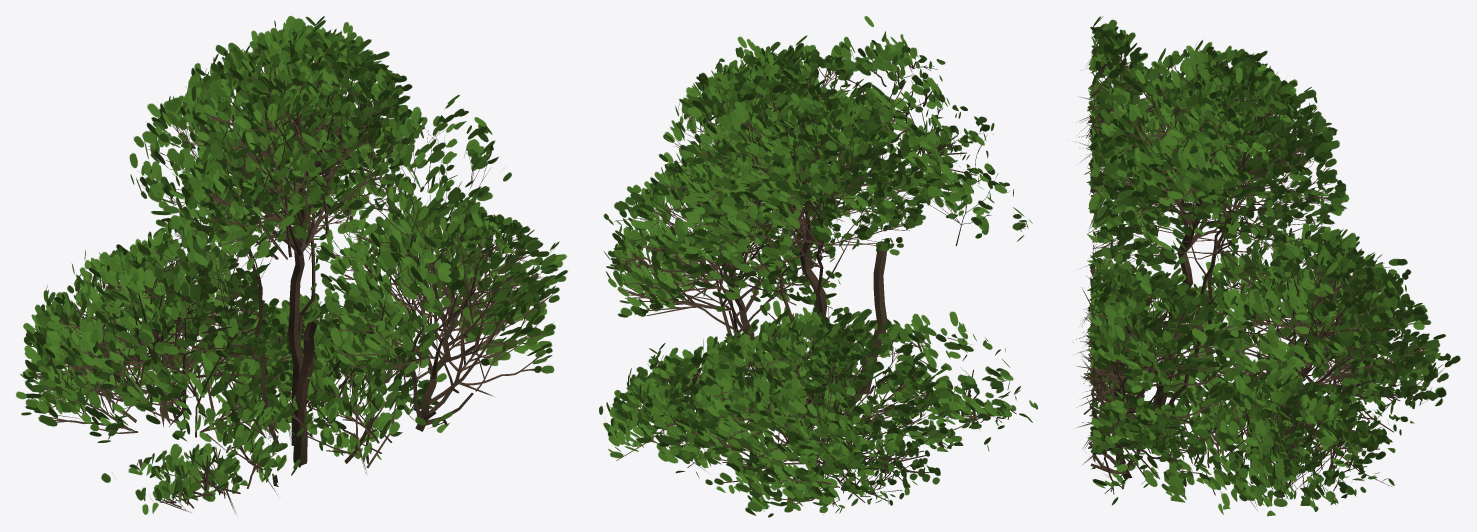
The picture shows the model from 3 angles, left to right: view 1: azimuth 30°, elevation 25°; view 2: azimuth 150°, elevation 25°; view 3: azimuth 270°, elevation 25°; orthographic projection. The views are drawn at different scales.
Visible parts, largest first — view 1: oak 01.001_trunk_Mat.001_0.231; view 2: oak 01.001_trunk_Mat.001_0.231; view 3: oak 01.001_trunk_Mat.001_0.231.
Part boxes in pixels (x1,y1,x2,y2): oak 01.001_trunk_Mat.001_0.231: (16, 15, 567, 514); oak 01.001_trunk_Mat.001_0.231: (599, 16, 1037, 517); oak 01.001_trunk_Mat.001_0.231: (1073, 16, 1460, 516).
Size of the model in its own units: 4.04 by 3.63 by 3.07.
Materials: 2 (1 with a texture image).
